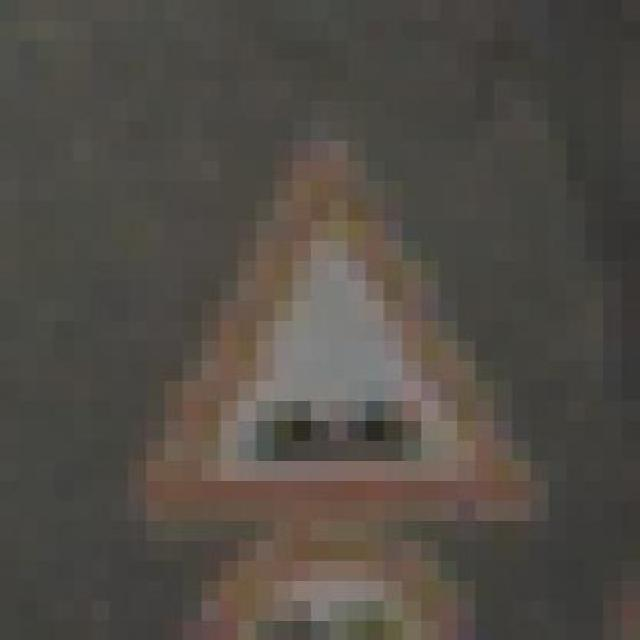Uneven Road: (110, 100, 548, 560)
